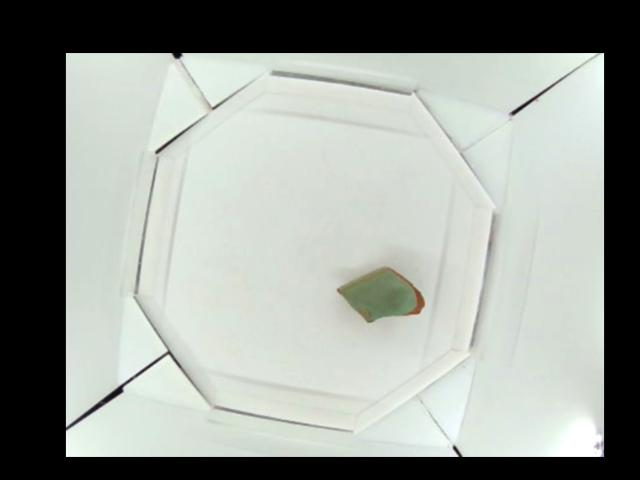China: (336, 265, 425, 320)
